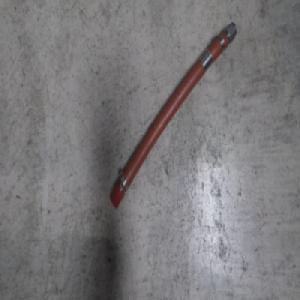Hose: (107, 17, 238, 212)
